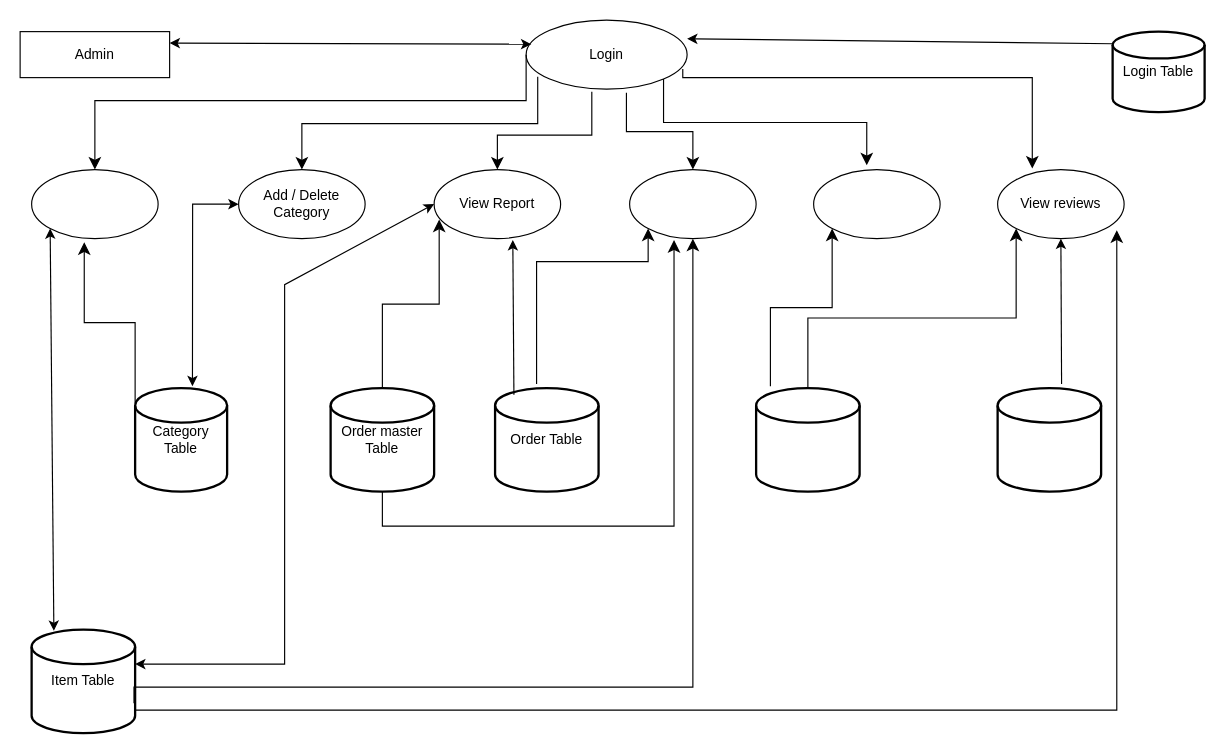
This 1226x754 diagram has some shape labels left out. The centre of each missing label's shape, as x and y in pixels:
"Add / Delete Item" goes at (x=94, y=203).
"manage order" goes at (x=692, y=203).
"Review Table" goes at (x=1049, y=439).
"User Table" goes at (x=807, y=439).
"View Customer details" goes at (x=876, y=203).
